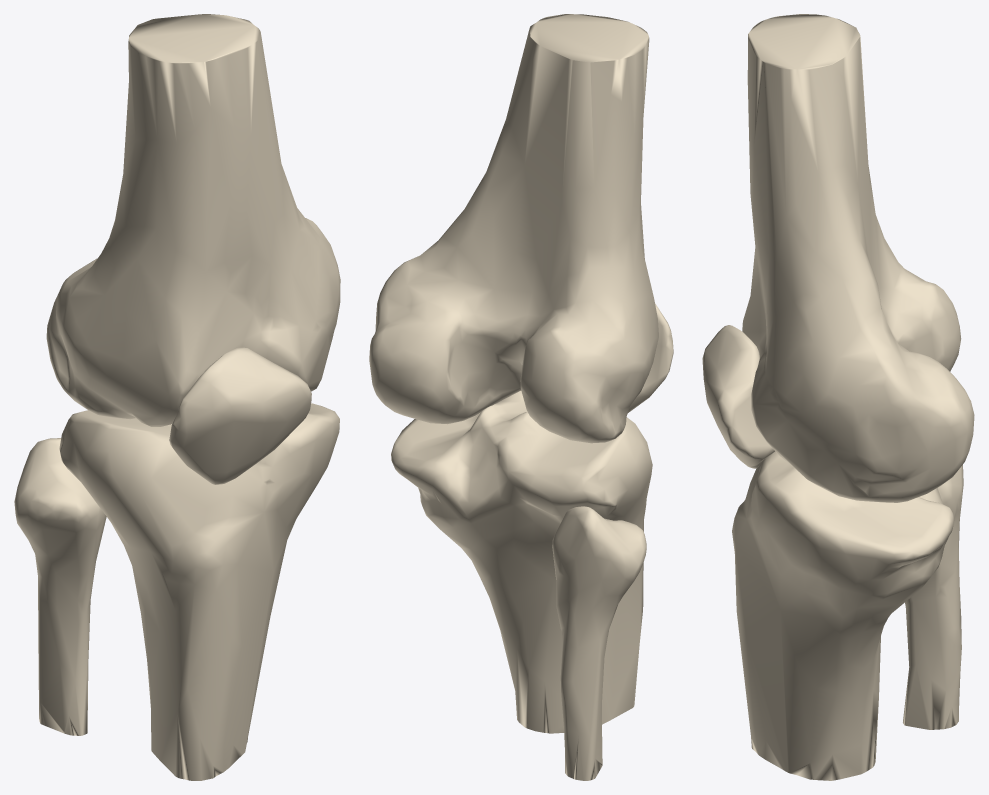
The model's file is knee.glb.
3 renders of one model, left to right at view 1: azimuth 30°, elevation 25°; view 2: azimuth 150°, elevation 25°; view 3: azimuth 270°, elevation 25°, orthographic. The views are drawn at different scales.
Visible parts, largest first — view 1: FJ3365 · bone organ, FJ3387 · bone organ, FJ3366 · bone organ, FJ3381 · bone organ; view 2: FJ3365 · bone organ, FJ3387 · bone organ, FJ3366 · bone organ, FJ3381 · bone organ; view 3: FJ3365 · bone organ, FJ3387 · bone organ, FJ3366 · bone organ, FJ3381 · bone organ.
Boxes of the visible parts, bbox=[...] form: FJ3365 · bone organ: bbox=[46, 14, 340, 426]; FJ3387 · bone organ: bbox=[59, 403, 339, 780]; FJ3366 · bone organ: bbox=[14, 438, 106, 735]; FJ3381 · bone organ: bbox=[169, 347, 311, 484]; FJ3365 · bone organ: bbox=[369, 14, 658, 443]; FJ3387 · bone organ: bbox=[391, 391, 652, 733]; FJ3366 · bone organ: bbox=[552, 506, 646, 780]; FJ3381 · bone organ: bbox=[628, 303, 673, 412]; FJ3365 · bone organ: bbox=[742, 14, 974, 502]; FJ3387 · bone organ: bbox=[732, 451, 954, 780]; FJ3366 · bone organ: bbox=[903, 465, 963, 729]; FJ3381 · bone organ: bbox=[702, 325, 775, 468].
Bounding box in the file's own units: 1.41 × 3.35 × 1.16.
